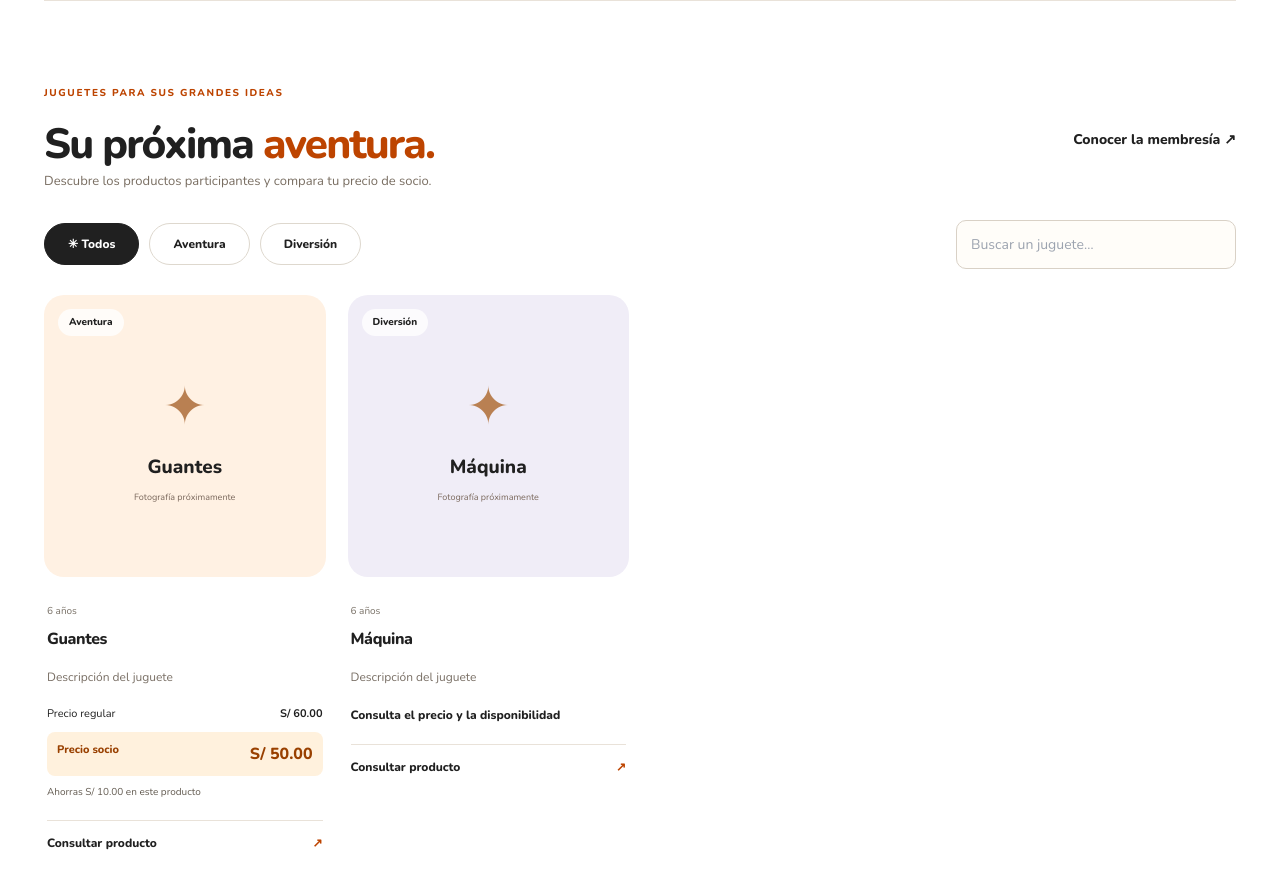
Test case: Catalog › does not send visitors to a placeholder WhatsApp number
The image size is (1280, 888).
What coordinates should you click on to do the following:
click the link "Consultar producto ↗" below "Ahorras"
I would click on:
 (102, 843)
Its box is [47,820,322,852].
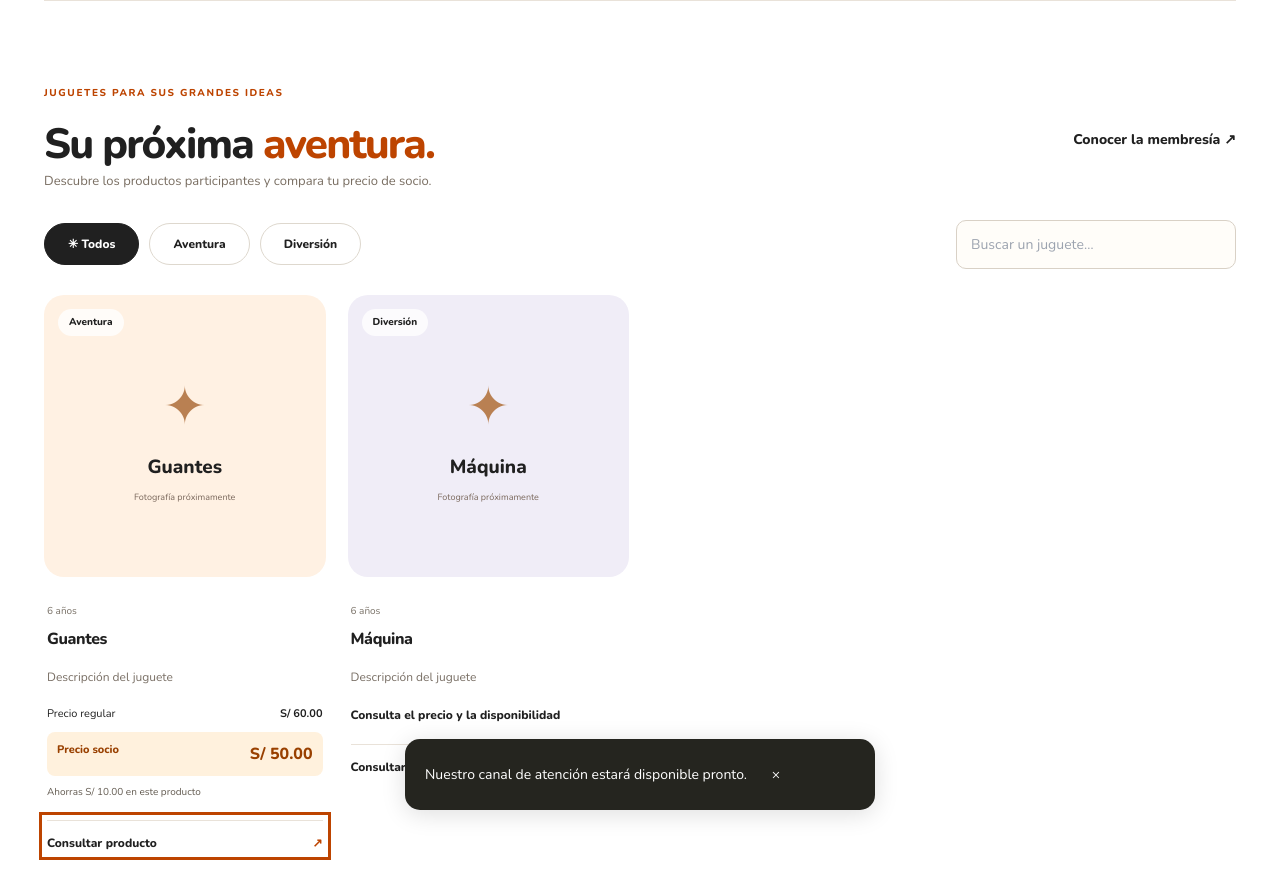
Expected: the message shows "disponible pronto", [425,765,747,784]
